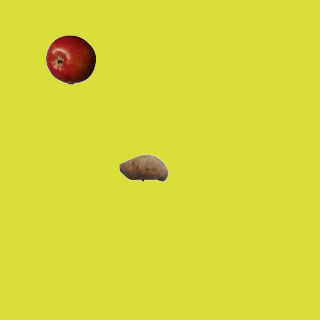Apple Braeburn: (45, 34, 95, 84)
Potato Sweet: (118, 142, 168, 192)
